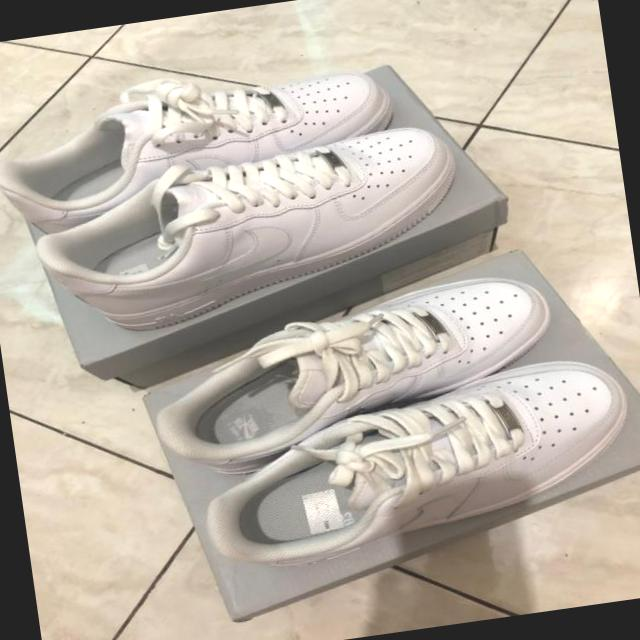nike_original_airforce: (187, 345, 640, 598), (134, 248, 574, 494), (24, 113, 482, 347), (0, 53, 408, 227)
